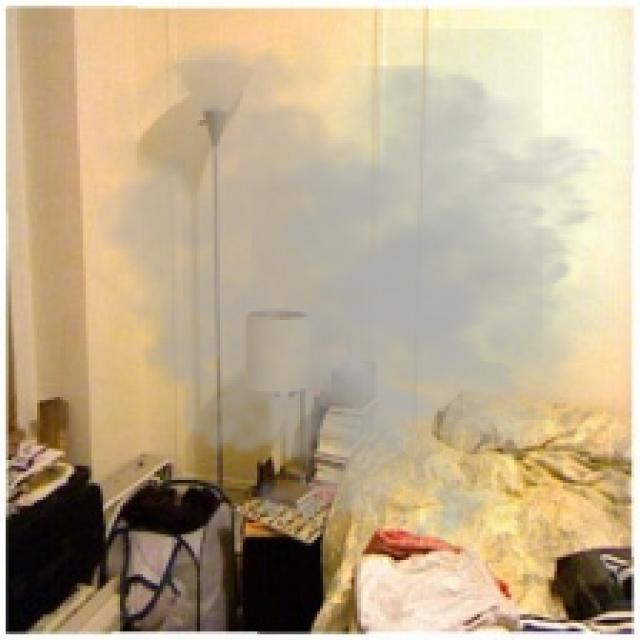smoke: (77, 28, 637, 563)
